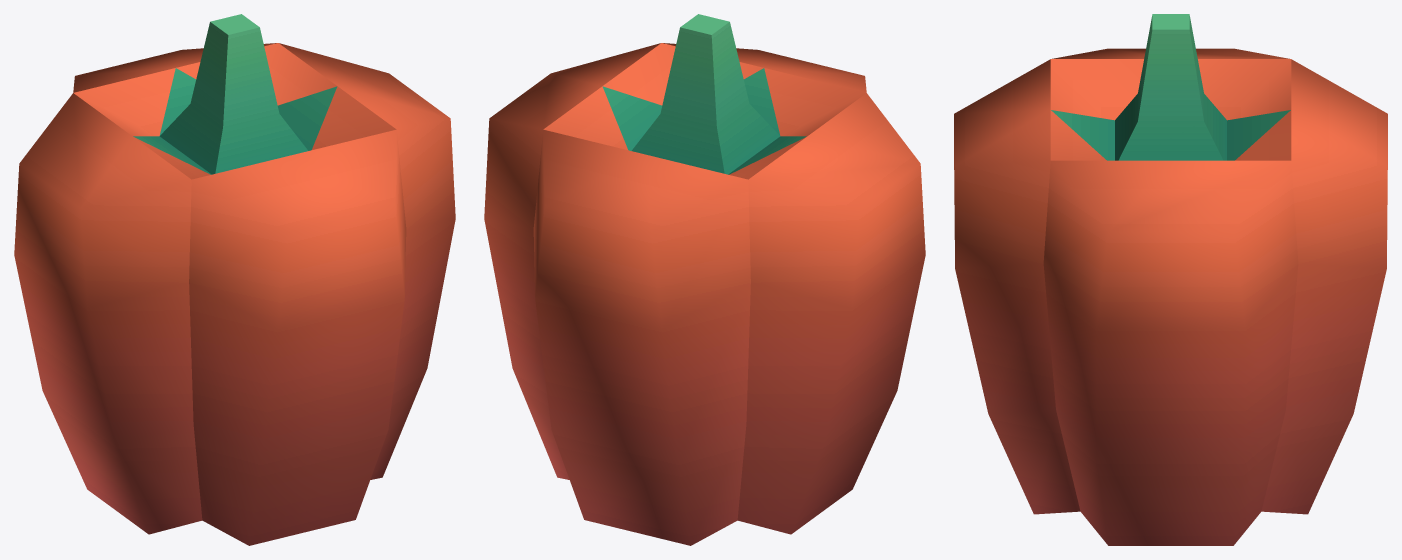
Rendered from paprika.5cd950c3d8.glb.
3 views of the same model, side by side, from view 1: azimuth 30°, elevation 25°; view 2: azimuth 150°, elevation 25°; view 3: azimuth 270°, elevation 25° (orthographic).
Parts seen in each view (by area): view 1: paprika; view 2: paprika; view 3: paprika.
Part boxes in pixels (bbox=[...]): paprika: bbox=[14, 14, 455, 545]; paprika: bbox=[484, 14, 925, 545]; paprika: bbox=[954, 14, 1387, 545].
Bounding box in the file's own units: 0.1681 × 0.1993 × 0.1681.
1 material, 1 textured.
